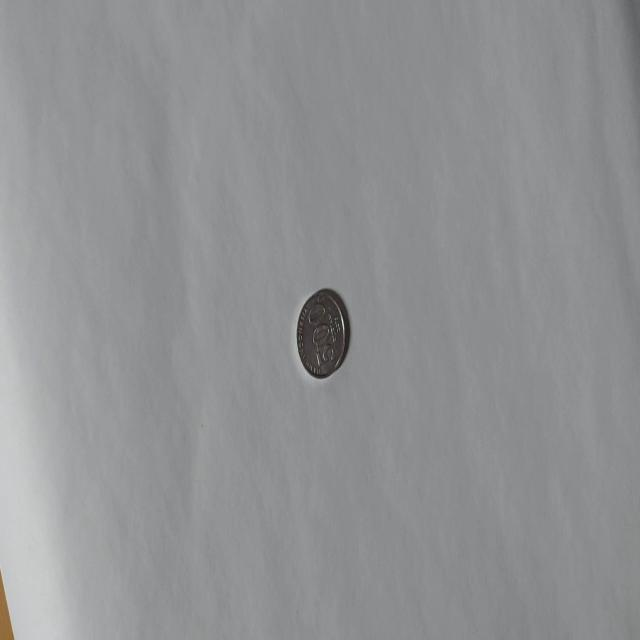lima ratus rupiah: (295, 287, 347, 380)
